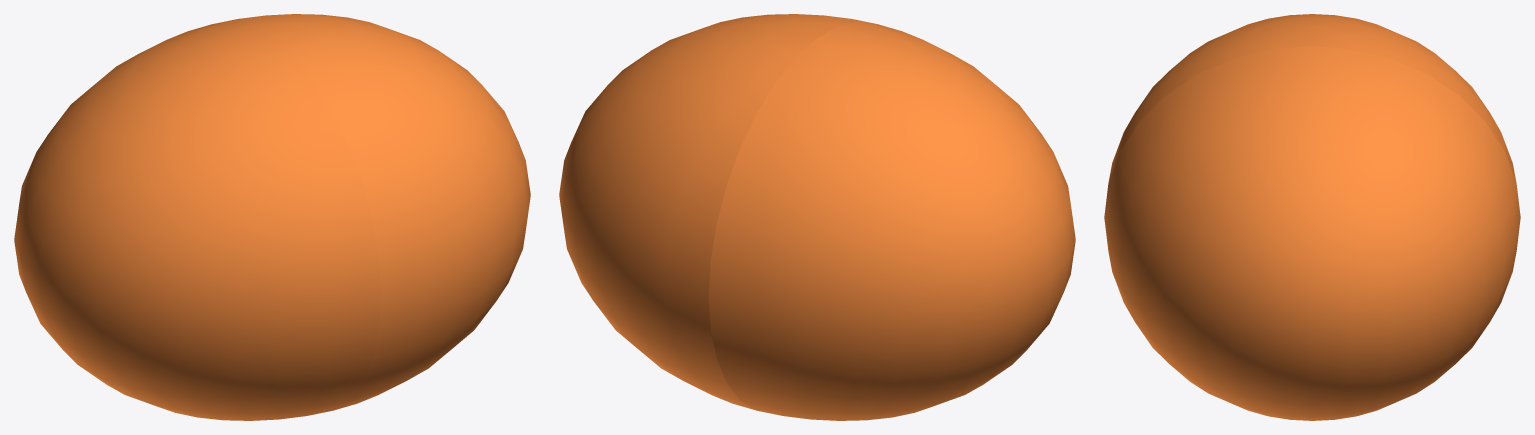
File: Kiwi_Cut.fbx
The picture shows the model from 3 angles, left to right: view 1: azimuth 30°, elevation 25°; view 2: azimuth 150°, elevation 25°; view 3: azimuth 270°, elevation 25°; orthographic projection. The views are drawn at different scales.
Parts seen in each view (by area): view 1: Sphere.005, Sphere; view 2: Sphere.005, Sphere; view 3: Sphere, Sphere.005.
Boxes of the visible parts, x1,y1,x2,y2 form: Sphere.005: (14,21,381,420); Sphere: (214,14,530,410); Sphere.005: (708,21,1075,420); Sphere: (559,14,875,410); Sphere: (1104,46,1520,420); Sphere.005: (1108,14,1516,182).
Bounding box in the file's own units: 0.1543 × 0.1127 × 0.1239.
